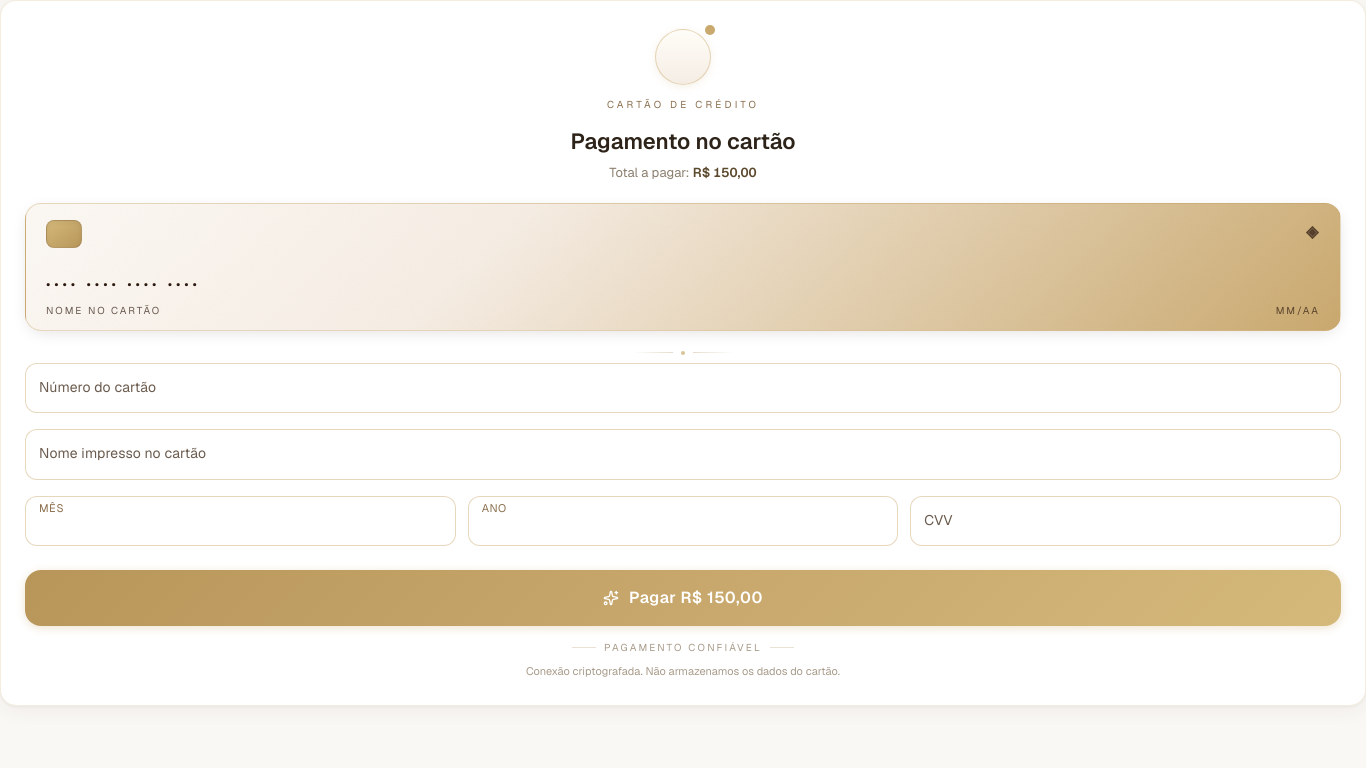
Test case: PublicCardCharge › shows "Pagamento em análise" panel and starts polling when charge response reports PENDING_RISK_ANALYSIS
Step 1. Type "4111111111111111" into the field labelled "Número do cartão" → (683, 388), box x1=25 y1=363 x2=1341 y2=413
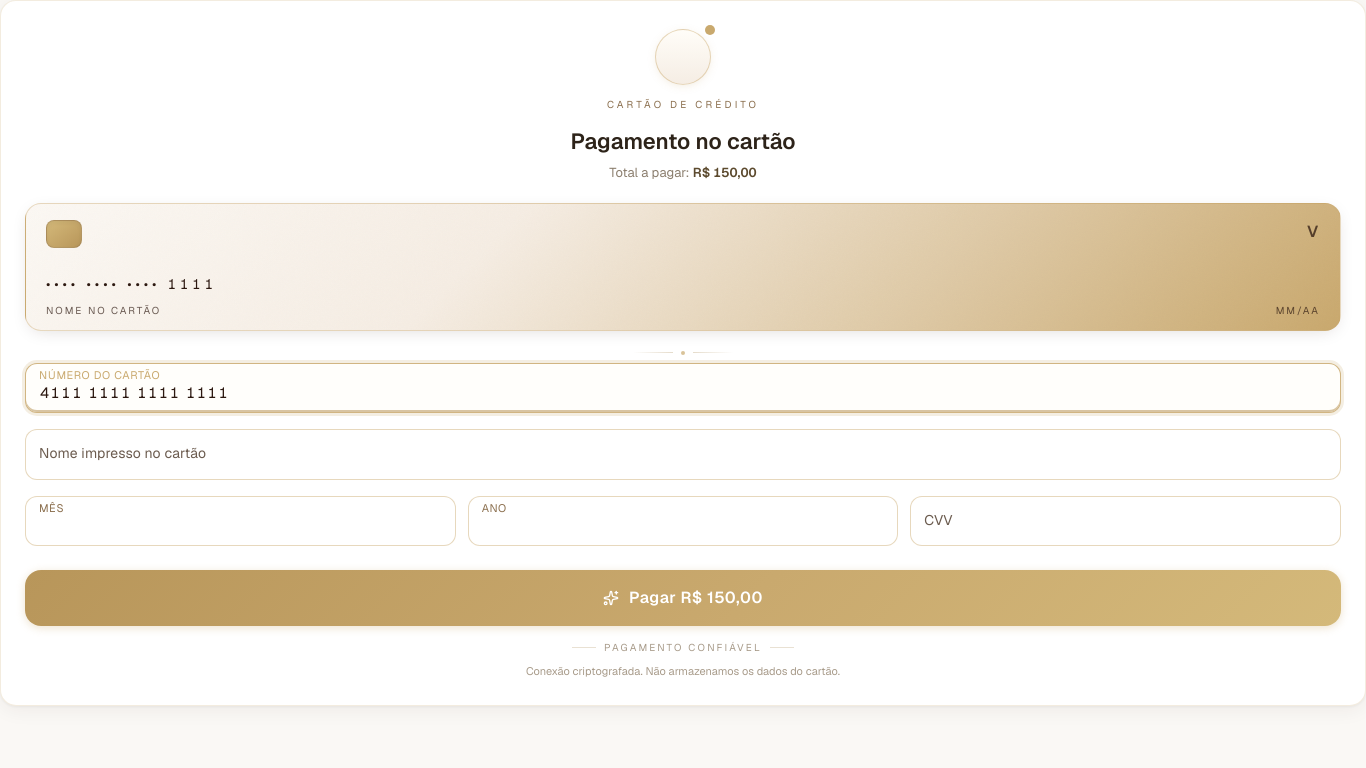
Step 2. Type "MARIA SILVA" into the field labelled "Nome impresso no cartão" → (683, 454), box x1=25 y1=429 x2=1341 y2=480
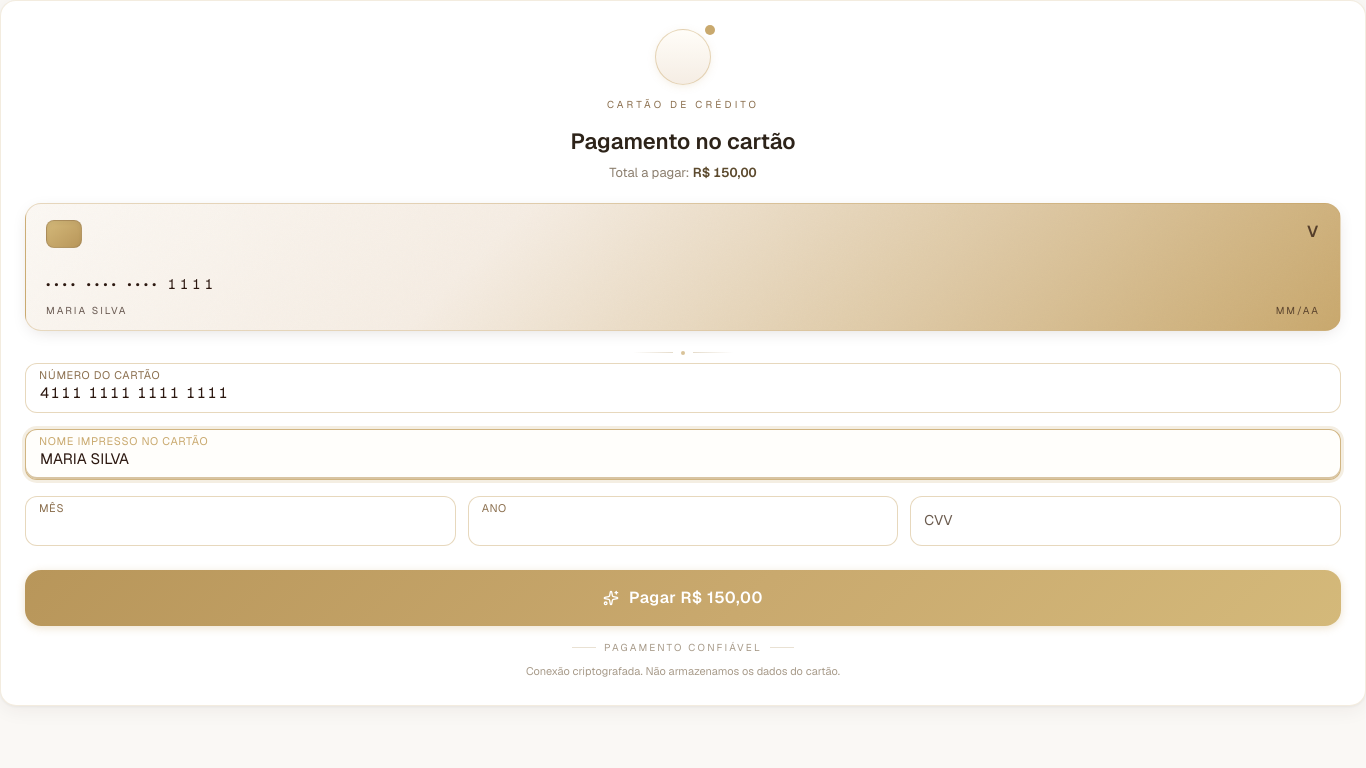
Step 3. Select "12" in the dropdown labelled "Mês" → (240, 521), box x1=25 y1=496 x2=456 y2=546
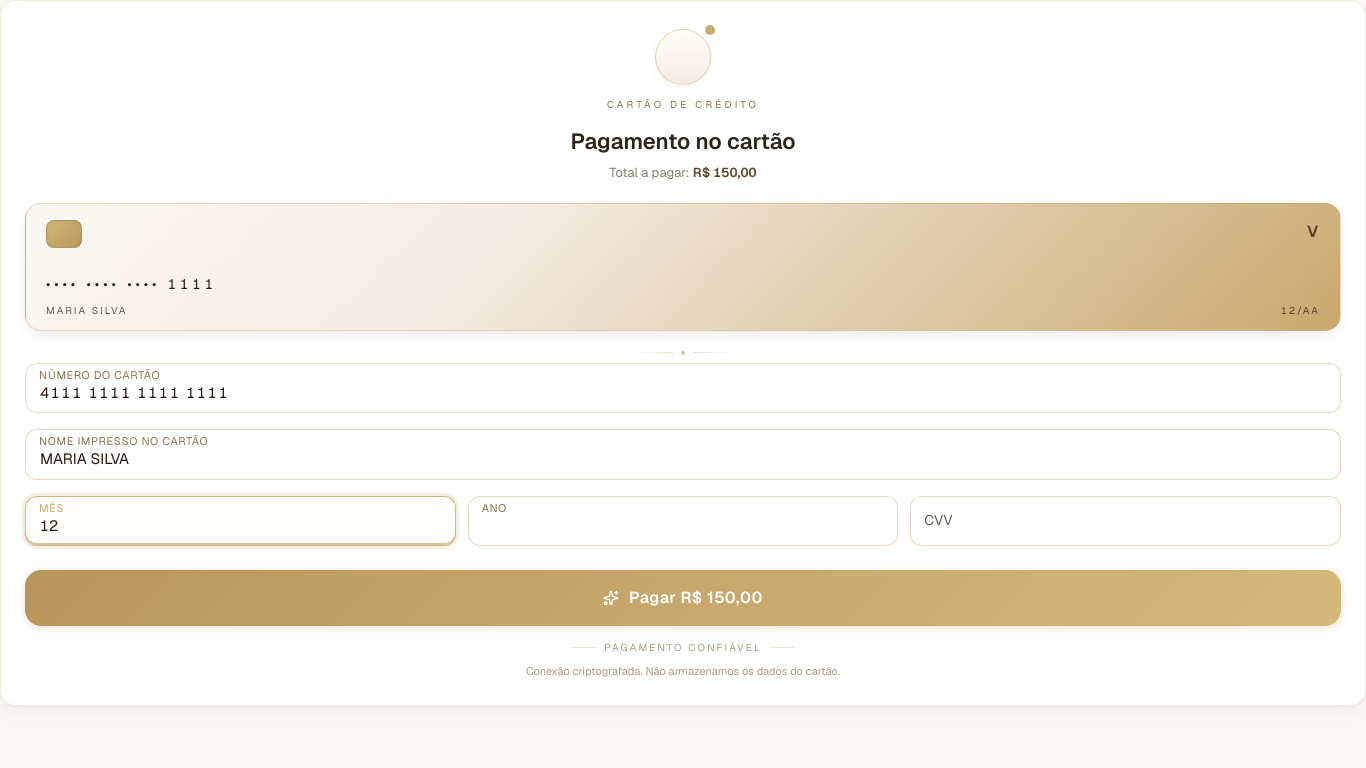
Step 4. Select "2026" in the dropdown labelled "Ano" → (683, 521), box x1=468 y1=496 x2=898 y2=546
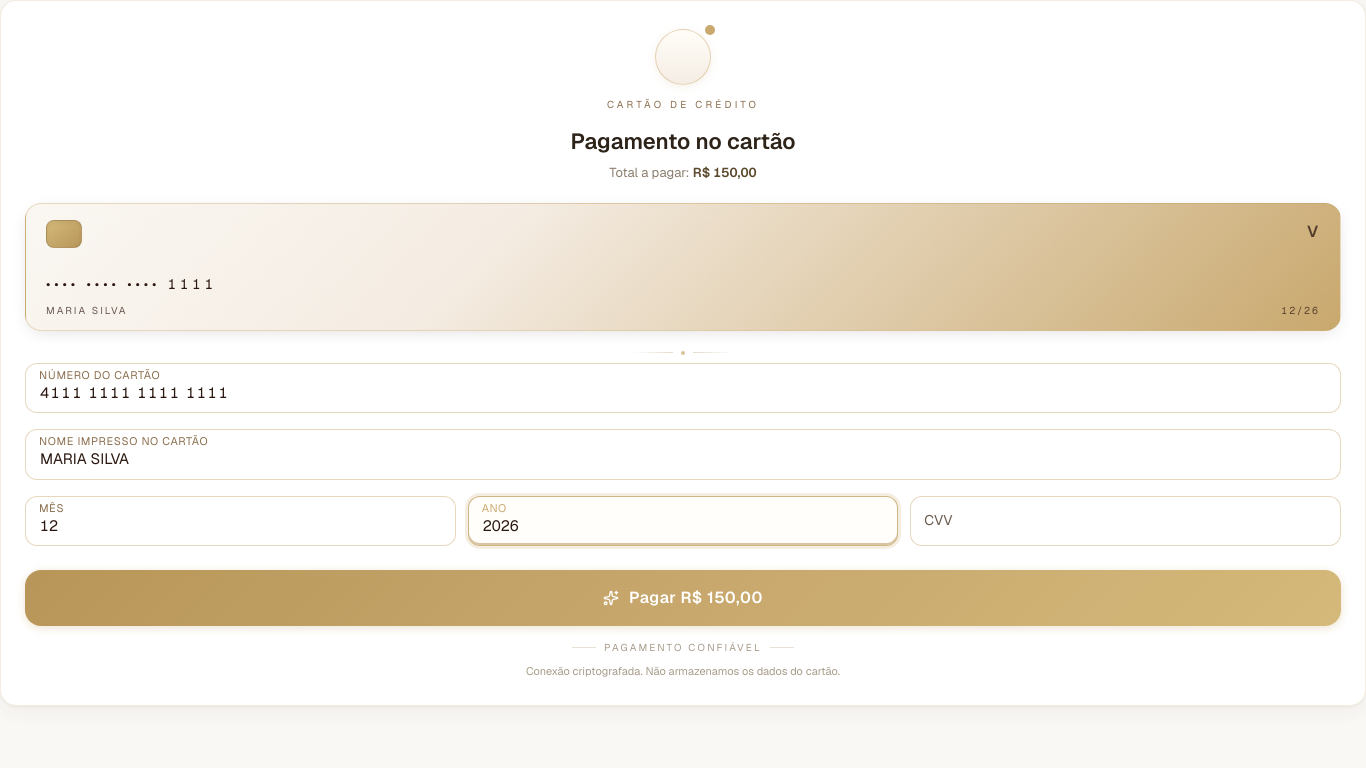
Step 5. Type "123" into the field labelled "CVV" → (1126, 521), box x1=910 y1=496 x2=1341 y2=546
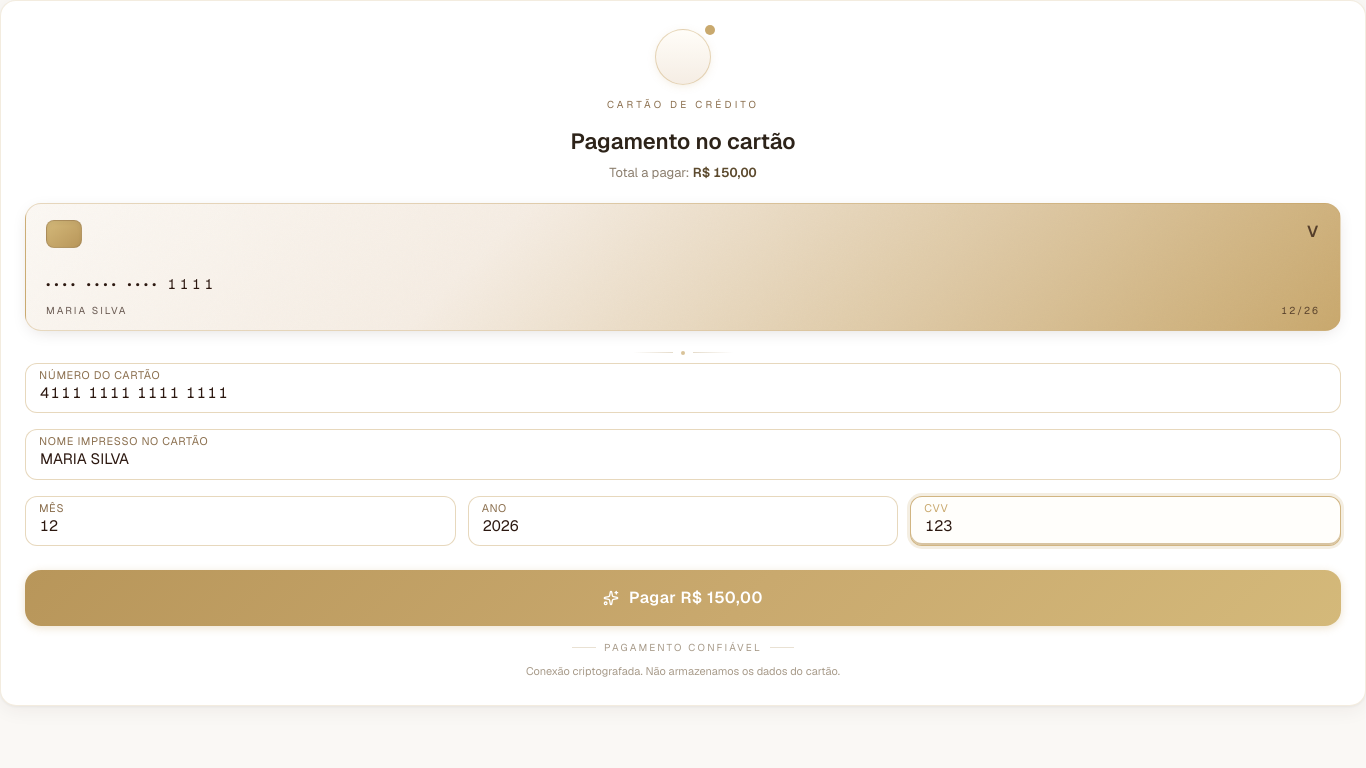
Step 6. Click the button "Pagar R$ 150,00" → (683, 598), box x1=25 y1=570 x2=1341 y2=626
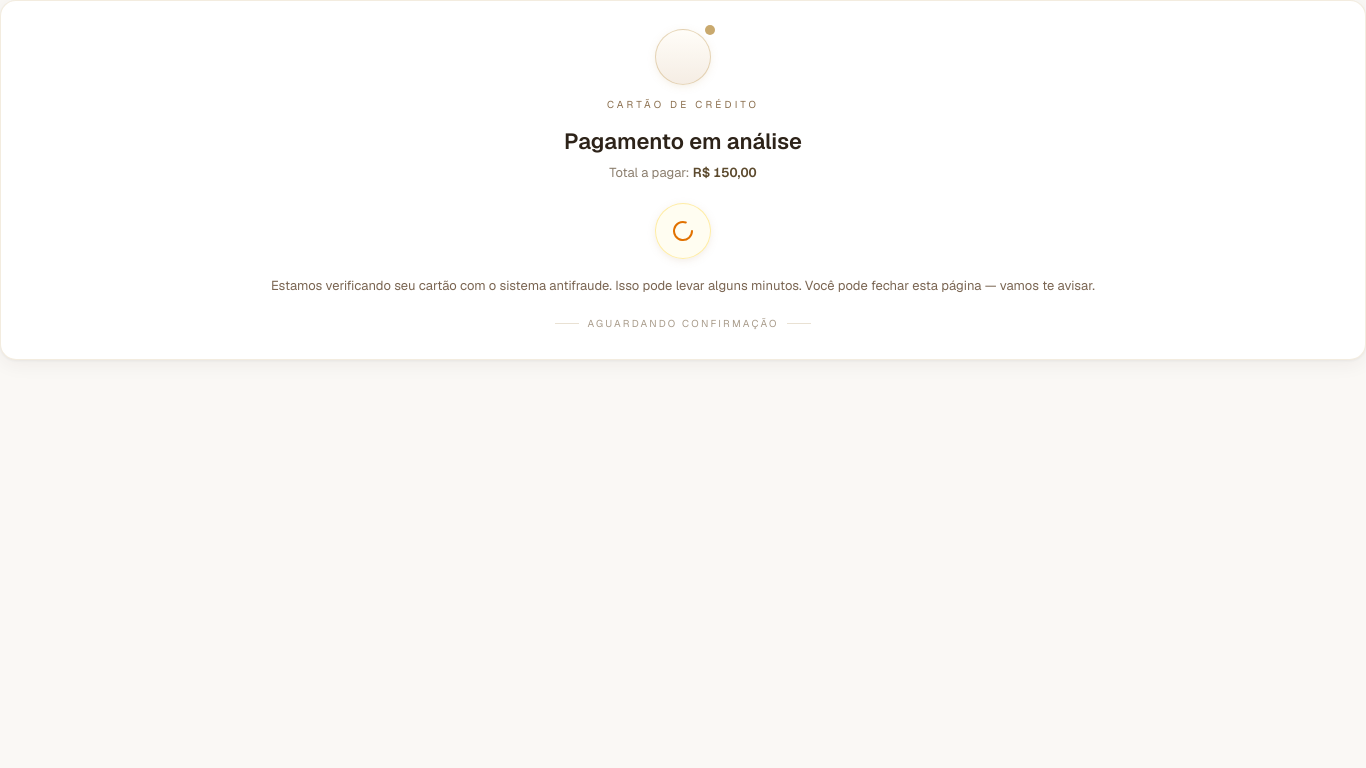
expect the heading "Pagamento em análise" is shown: met, box x1=564 y1=127 x2=802 y2=155
expect the text "sistema antifraude" is shown: met, box x1=271 y1=277 x2=1095 y2=294
expect the label labelled "Número do cartão" is gone: met
